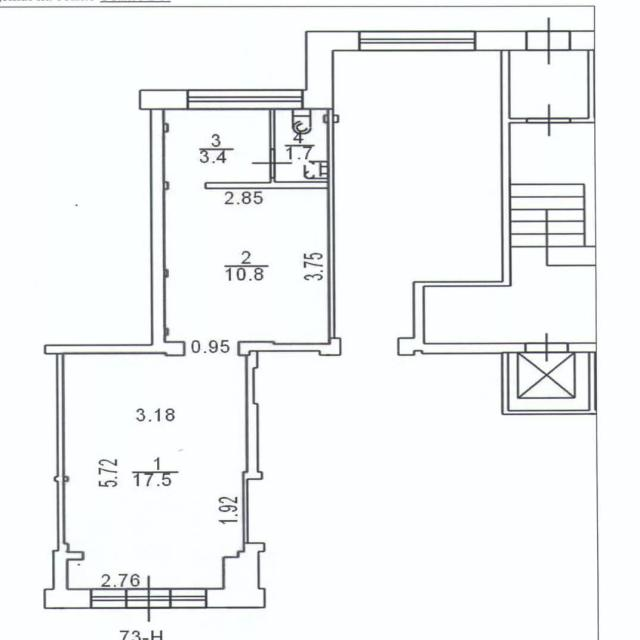Bathrooms: (276, 110, 327, 181)
Corridors: (425, 269, 596, 343), (511, 51, 588, 117)
Doors: (525, 15, 571, 66), (126, 574, 171, 623), (526, 102, 571, 138), (525, 332, 568, 362), (251, 148, 293, 178), (341, 338, 399, 355), (185, 341, 238, 355), (170, 181, 205, 189)
LBwalls: (302, 31, 360, 109), (206, 542, 267, 609), (149, 110, 166, 341), (43, 544, 90, 610), (241, 351, 263, 479), (398, 336, 525, 356), (44, 340, 186, 357), (238, 338, 341, 357), (475, 30, 526, 51), (139, 89, 188, 110), (571, 31, 595, 50), (568, 343, 597, 352)
Offices: (334, 51, 501, 337), (65, 354, 246, 588), (165, 189, 328, 343), (165, 110, 269, 181)
Stairs: (512, 124, 596, 269)
Walls: (413, 51, 527, 336), (204, 110, 340, 338), (501, 352, 598, 415), (53, 354, 69, 544), (571, 51, 596, 123), (242, 479, 249, 542), (270, 110, 275, 149), (165, 123, 169, 133), (164, 269, 169, 277), (165, 327, 169, 337), (165, 181, 169, 190)
Windows: (359, 31, 477, 52), (187, 89, 304, 109), (170, 587, 207, 608), (90, 588, 127, 609)
